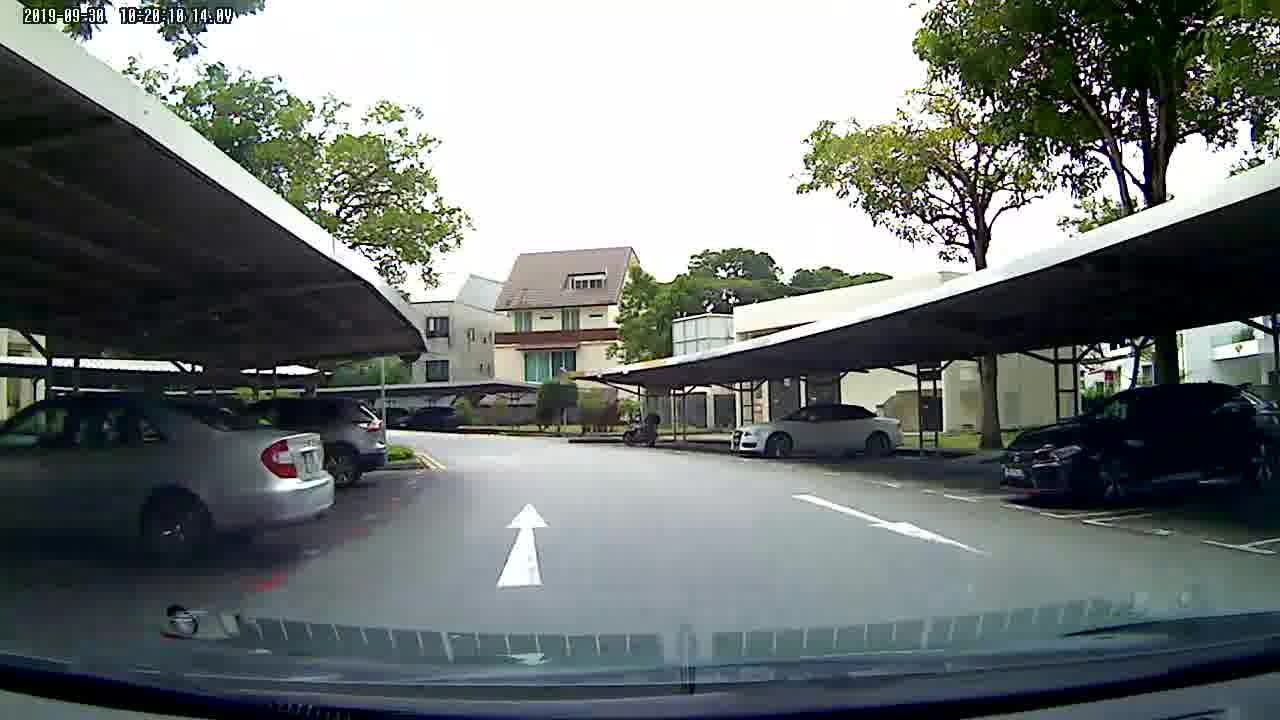car: (1, 378, 361, 569), (991, 379, 1280, 530), (721, 398, 908, 473)
